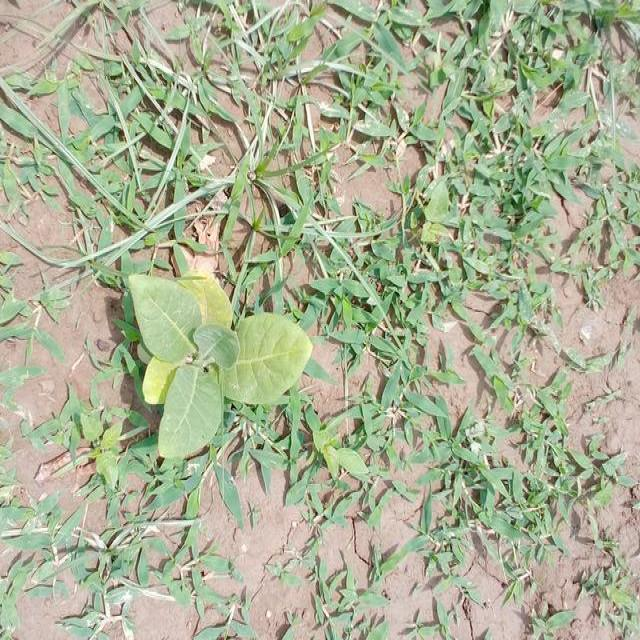crop: (126, 243, 310, 456)
